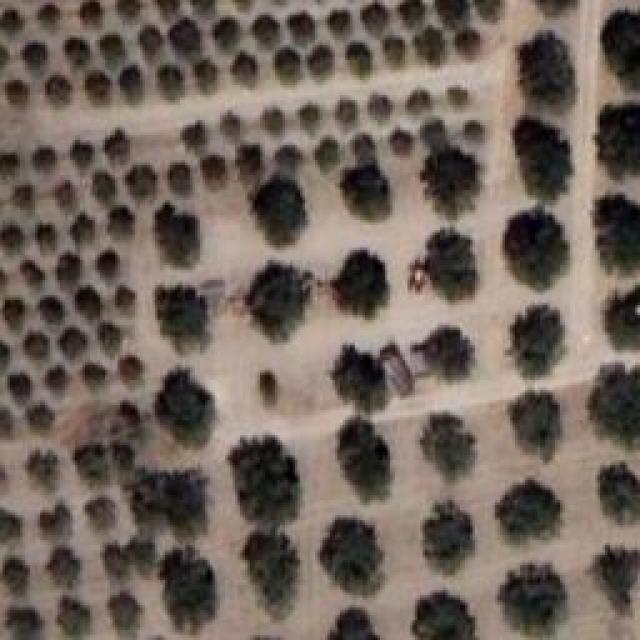Tree: (508, 118, 585, 207), (410, 228, 495, 302), (227, 442, 297, 526), (238, 535, 308, 615), (325, 420, 390, 505), (320, 510, 388, 591), (515, 35, 582, 117), (242, 265, 314, 339), (585, 190, 639, 287), (500, 208, 566, 287), (155, 373, 225, 445), (155, 550, 219, 627), (490, 570, 560, 640), (495, 478, 567, 546), (510, 305, 576, 377), (508, 393, 568, 468), (322, 348, 392, 412), (330, 253, 394, 322), (250, 175, 314, 244), (415, 502, 478, 572), (150, 208, 211, 280), (153, 280, 212, 352), (425, 148, 487, 214), (595, 100, 640, 187), (333, 160, 397, 221), (585, 535, 639, 606), (426, 410, 478, 481), (597, 357, 640, 442), (160, 467, 209, 538), (405, 585, 463, 640), (423, 325, 476, 385), (603, 8, 640, 89), (597, 462, 640, 527), (122, 467, 172, 519), (320, 602, 388, 640), (597, 295, 640, 350), (50, 600, 97, 640), (253, 370, 292, 416), (110, 587, 149, 633), (85, 495, 129, 535), (0, 560, 44, 598), (152, 63, 184, 110), (73, 443, 112, 479), (358, 0, 394, 39), (111, 397, 146, 436), (425, 0, 475, 27), (5, 605, 44, 639), (42, 75, 77, 112), (384, 33, 414, 76), (80, 73, 115, 108), (63, 35, 99, 69), (100, 555, 132, 593), (45, 550, 77, 588), (93, 130, 132, 161), (32, 500, 65, 536), (125, 165, 155, 204), (178, 118, 212, 152), (107, 438, 138, 475), (174, 15, 204, 53), (166, 160, 196, 198), (416, 25, 448, 60), (3, 372, 37, 404), (533, 0, 580, 23), (402, 85, 434, 118), (278, 137, 309, 171), (365, 92, 396, 126), (395, 0, 430, 30), (458, 30, 488, 65), (113, 62, 143, 97), (203, 150, 233, 185), (63, 140, 92, 176), (270, 43, 298, 80), (214, 17, 244, 51), (138, 20, 166, 56), (28, 448, 55, 485), (33, 144, 64, 176), (325, 10, 355, 43), (285, 10, 313, 45), (28, 333, 55, 369), (387, 130, 419, 160), (247, 10, 280, 38), (0, 298, 27, 332), (93, 323, 123, 353), (54, 327, 82, 359), (305, 54, 337, 82), (340, 37, 366, 70), (3, 80, 29, 113), (38, 0, 67, 29), (0, 505, 28, 535), (223, 110, 247, 145), (238, 144, 266, 174), (190, 57, 214, 91), (115, 288, 143, 317), (418, 118, 446, 147), (23, 401, 53, 428), (233, 50, 260, 80), (310, 140, 340, 167), (348, 133, 378, 160), (68, 215, 96, 243), (75, 285, 101, 314), (73, 360, 103, 385), (18, 263, 44, 291), (3, 5, 27, 35), (25, 36, 49, 66), (98, 253, 122, 283), (109, 0, 143, 21), (57, 247, 79, 279), (298, 105, 325, 131), (445, 88, 470, 116), (465, 123, 489, 152), (0, 220, 23, 250), (38, 293, 63, 320), (53, 185, 75, 215), (3, 154, 25, 184), (113, 215, 139, 239), (100, 33, 124, 59), (45, 368, 68, 395), (13, 183, 37, 208), (93, 178, 117, 202), (335, 105, 356, 131), (33, 226, 59, 246), (150, 0, 180, 16), (123, 358, 141, 384), (188, 0, 218, 15), (260, 108, 282, 128), (75, 0, 95, 18)
